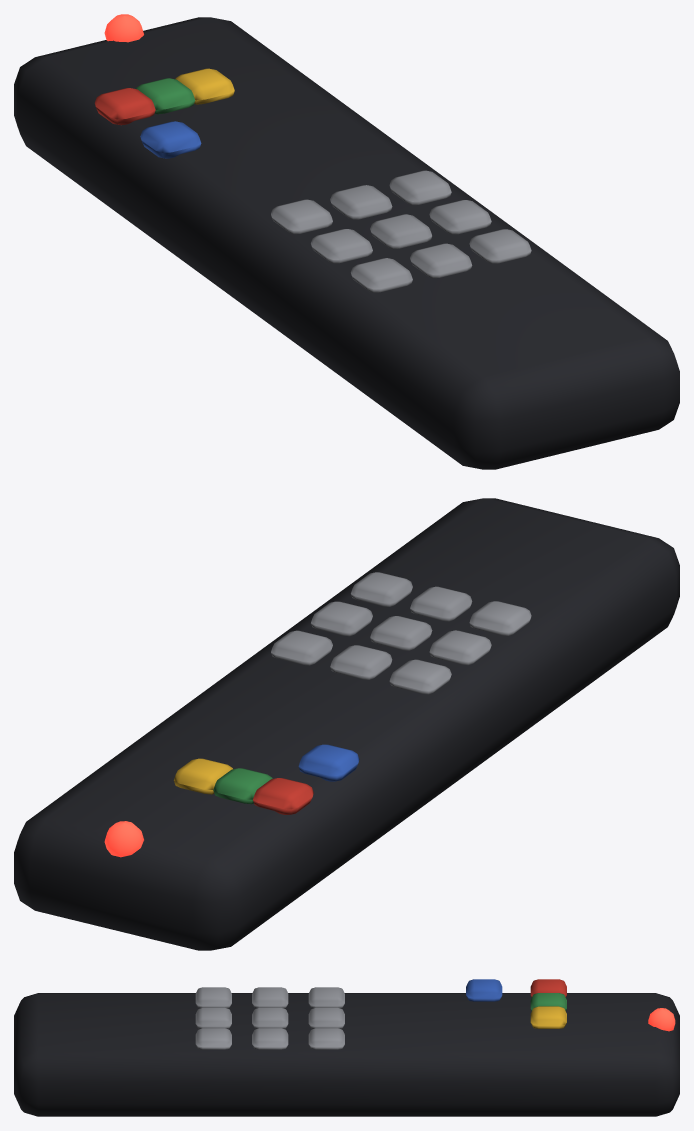
File: prop_control.glb
3 views of the same model, one above another, from view 1: azimuth 30°, elevation 25°; view 2: azimuth 150°, elevation 25°; view 3: azimuth 270°, elevation 25° (orthographic). The views are drawn at different scales.
Visible parts, largest first — view 1: prop_control; view 2: prop_control; view 3: prop_control.
Part boxes in pixels (x1=…): prop_control: x1=14, y1=14, x2=679, y2=469; prop_control: x1=14, y1=498, x2=679, y2=950; prop_control: x1=14, y1=979, x2=679, y2=1116.
Size of the model in its own units: 0.045 by 0.0215 by 0.165.
